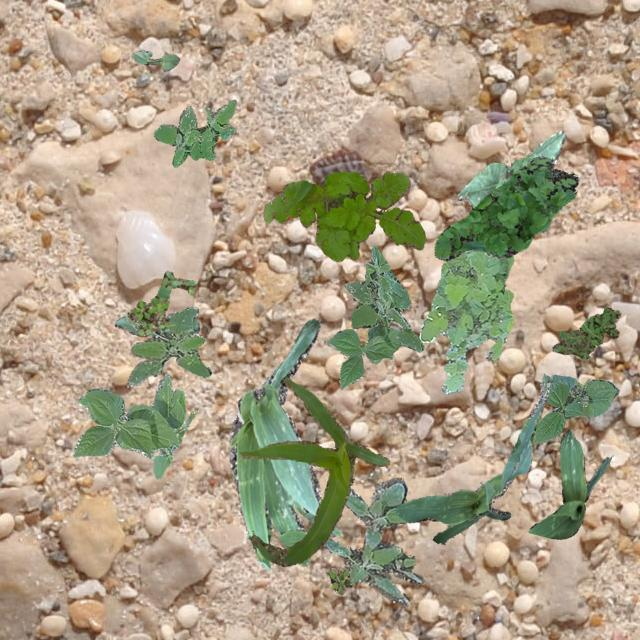crop: (228, 318, 342, 568), (238, 377, 388, 566), (390, 373, 550, 543), (72, 372, 195, 478), (528, 428, 610, 538), (456, 130, 564, 208), (532, 374, 618, 444), (326, 323, 400, 388), (114, 316, 198, 334), (132, 50, 178, 70)
weed: (434, 156, 576, 260), (262, 170, 424, 260), (418, 248, 512, 392), (322, 476, 422, 606), (343, 246, 422, 350), (124, 306, 210, 386), (152, 98, 235, 166), (127, 270, 195, 336), (552, 306, 620, 358), (327, 564, 352, 594)
